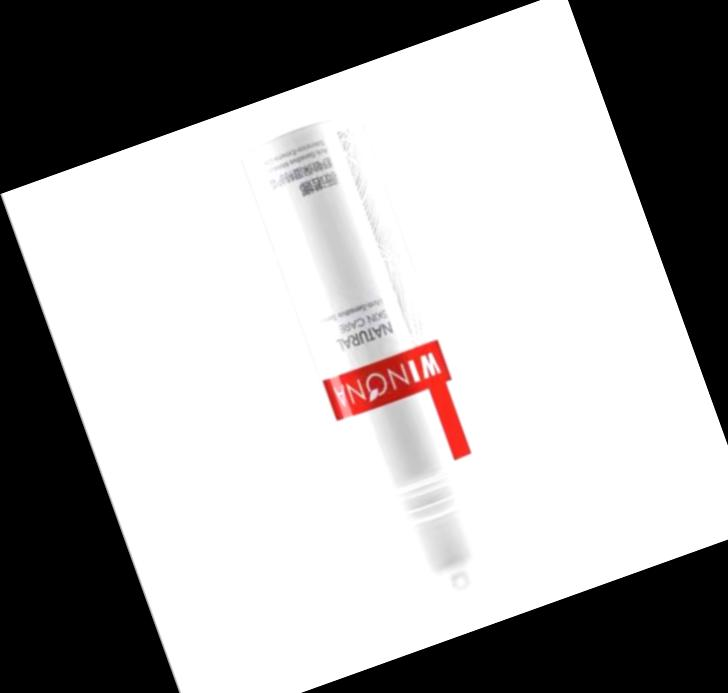cosmetic: (236, 105, 528, 624)
